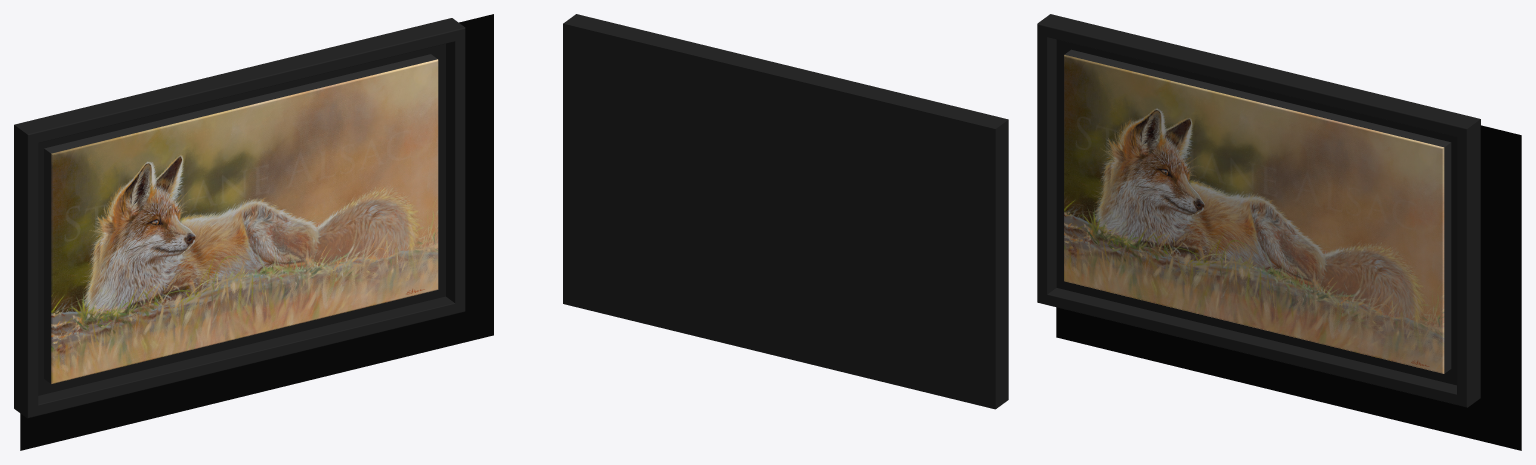
File: tableau-renard-classique-364e3b70.glb
The picture shows the model from 3 angles, left to right: view 1: azimuth 30°, elevation 25°; view 2: azimuth 150°, elevation 25°; view 3: azimuth 330°, elevation 25°; orthographic projection.
Visible parts, largest first — view 1: Painting; view 2: Painting; view 3: Painting.
Part boxes in pixels (box(x1,y1,x2,y2)): Painting: box(14, 14, 493, 450); Painting: box(563, 14, 1008, 409); Painting: box(1037, 14, 1521, 450).
Size of the model in its own units: 0.806 by 0.526 by 0.04.
5 materials, 3 textured.
